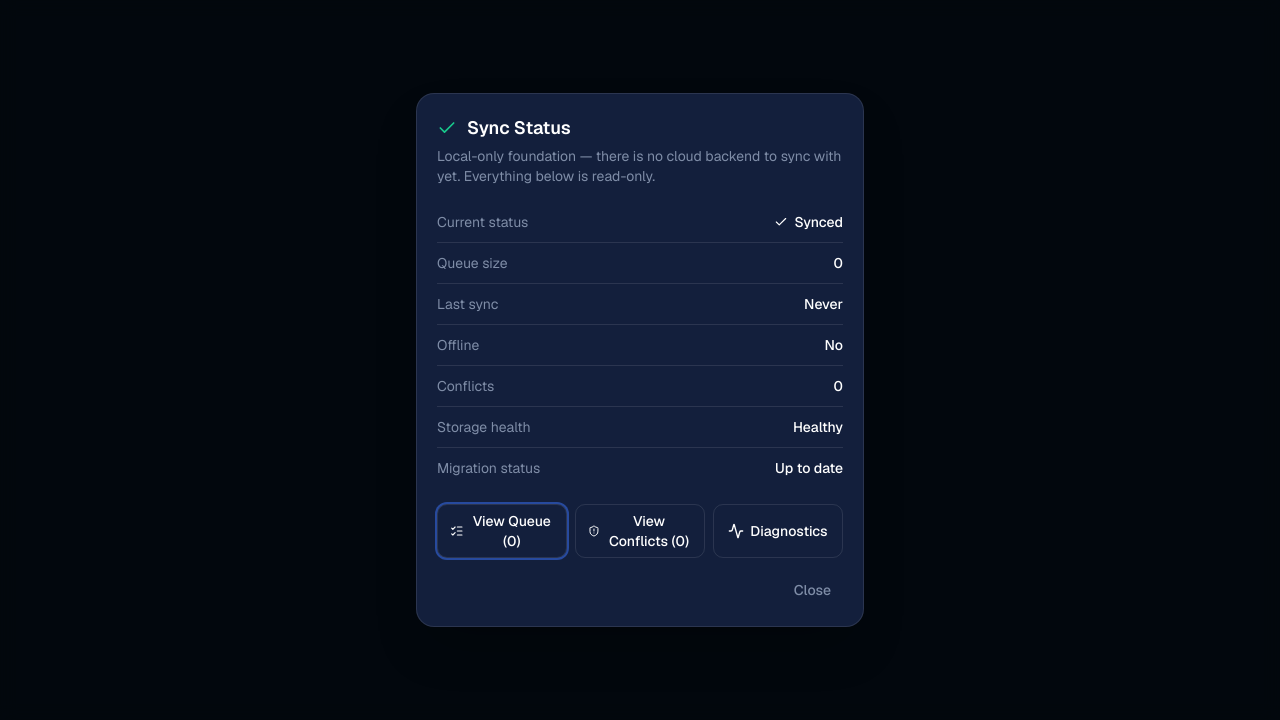
SyncStatusCard › View Conflicts closes this dialog and opens the real Sync Conflicts dialog
Click the button "View Conflicts (0)" at point(640, 531), box left=575, top=504, right=705, bottom=558
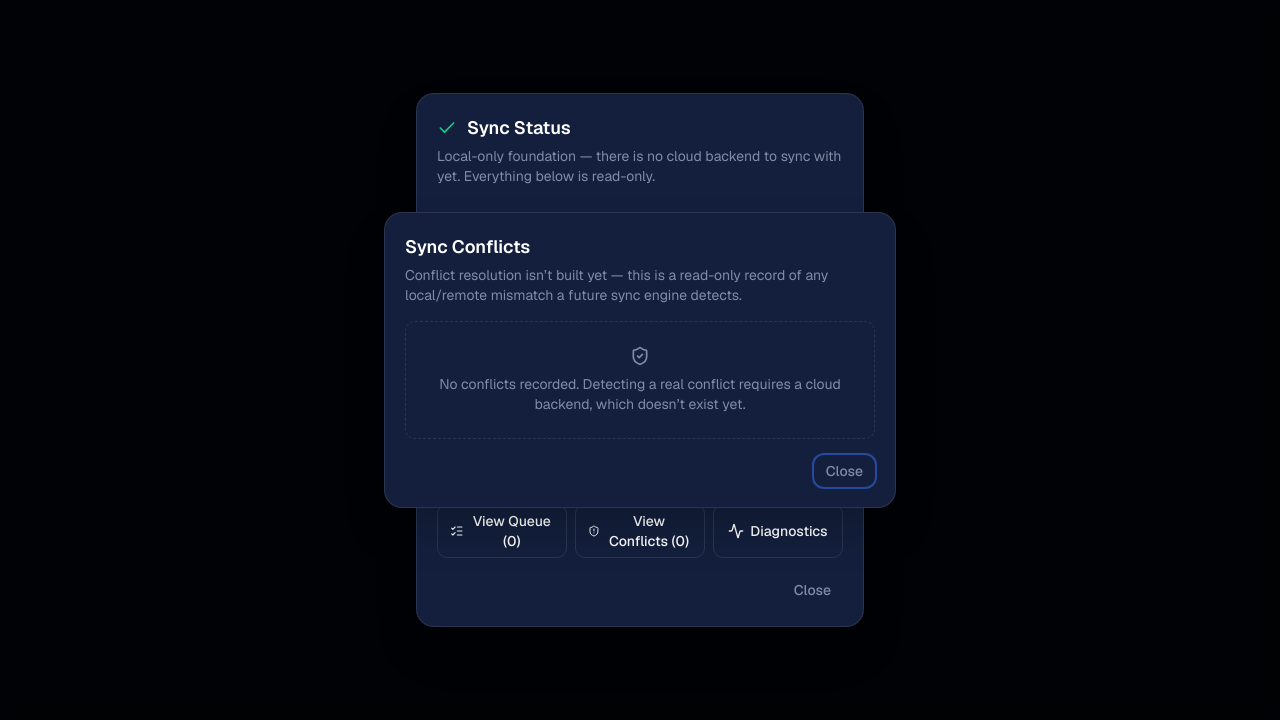
Expected: the dialog "Sync Conflicts" is shown, left=384, top=212, right=896, bottom=508
